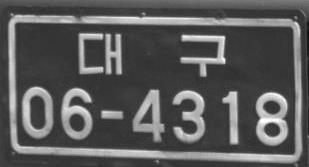0: (22, 84, 53, 140)
1: (215, 90, 248, 143)
3: (172, 89, 206, 143)
4: (132, 90, 165, 141)
6: (60, 86, 93, 139)
8: (255, 91, 289, 146)
대구_D: (78, 31, 226, 77)
